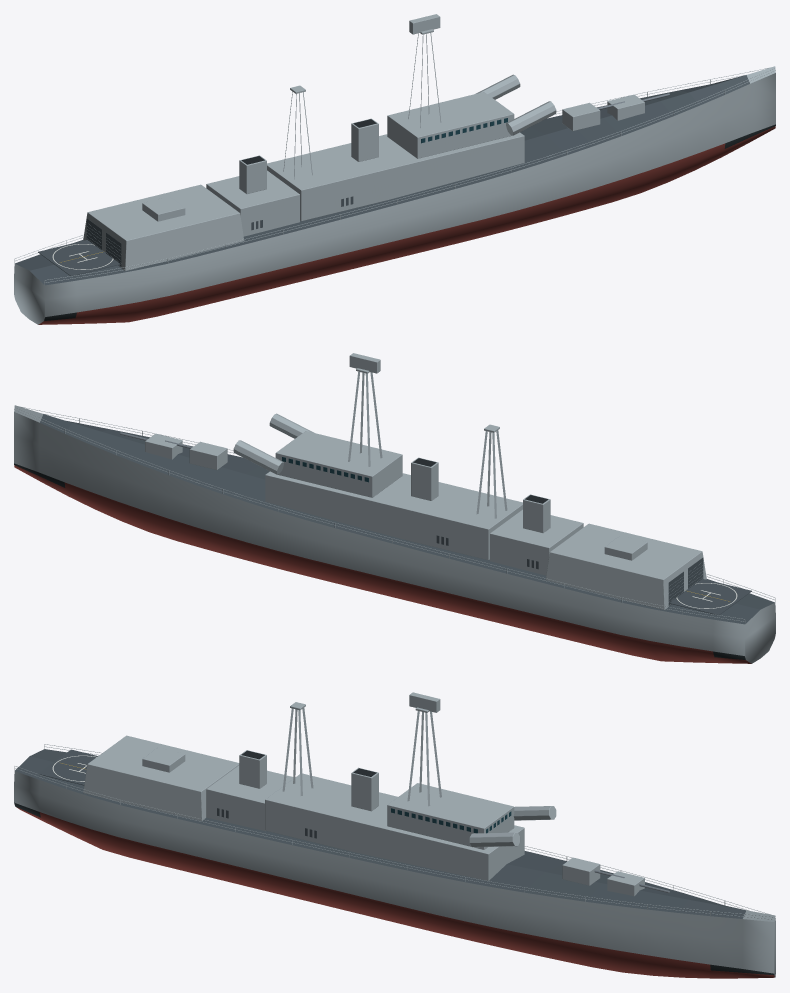
File: rfn_ddg_udaloy.glb
3 views of the same model, one above another, from view 1: azimuth 30°, elevation 25°; view 2: azimuth 150°, elevation 25°; view 3: azimuth 330°, elevation 25° (orthographic).
Visible parts, largest first — view 1: rfn_ddg_udaloy; view 2: rfn_ddg_udaloy; view 3: rfn_ddg_udaloy.
Boxes of the visible parts, x1,y1,x2,y2 form: rfn_ddg_udaloy: [14, 14, 775, 324]; rfn_ddg_udaloy: [14, 353, 775, 663]; rfn_ddg_udaloy: [14, 692, 775, 978].
Size of the model in its own units: 10 by 2.84 by 1.17.
